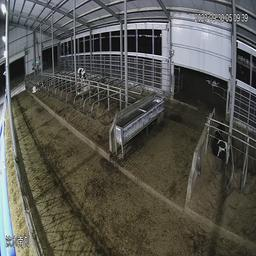cow: (208, 116, 230, 163), (78, 61, 92, 95), (29, 76, 47, 95)
